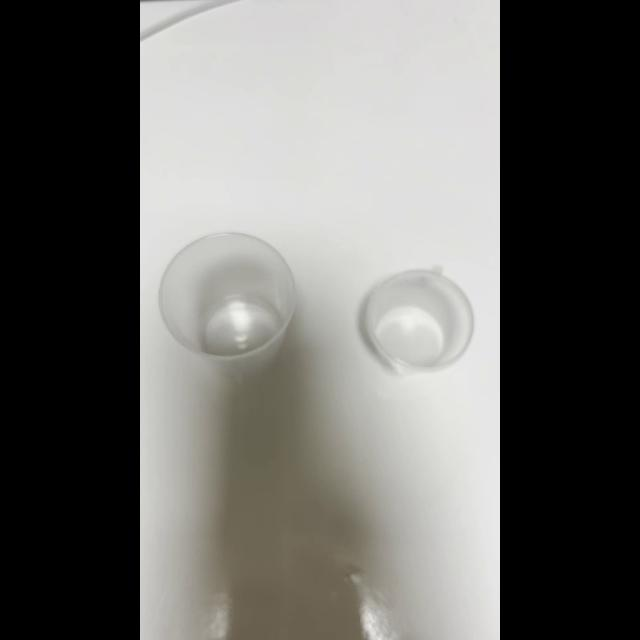clean: (158, 228, 310, 374), (362, 256, 474, 382)
